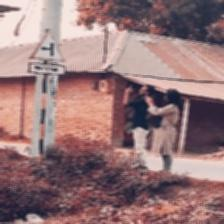Side-road-left: (27, 31, 67, 75)
